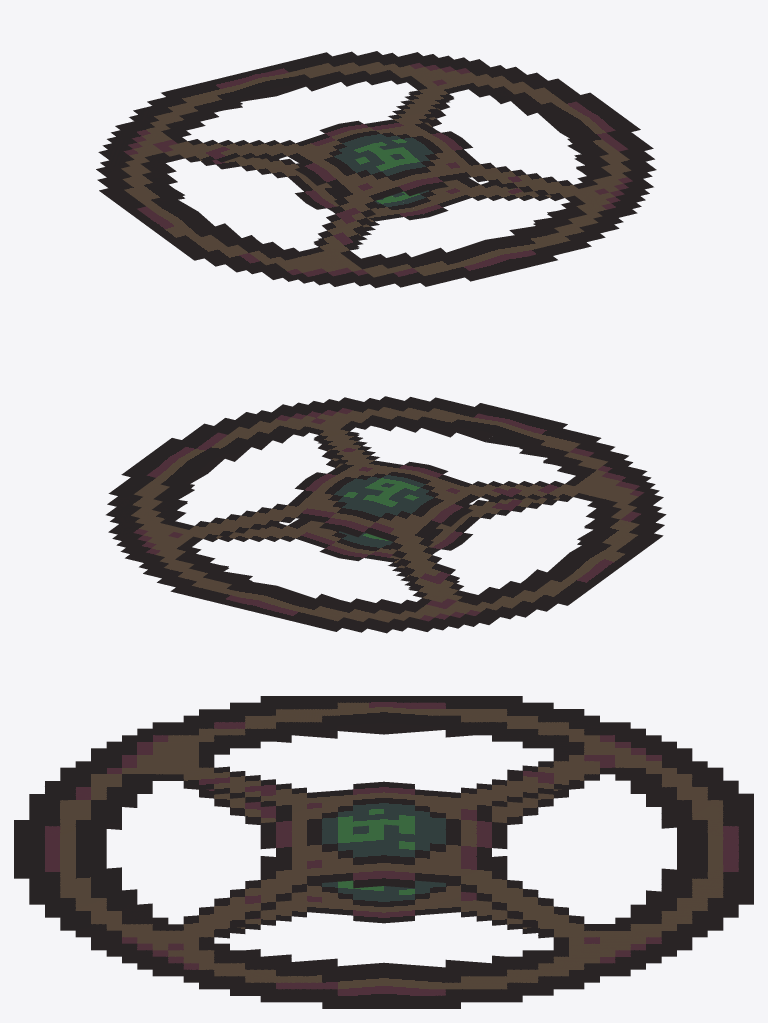
The model's file is Wheel.gltf.
The picture shows the model from 3 angles, top to bottom: view 1: azimuth 30°, elevation 25°; view 2: azimuth 150°, elevation 25°; view 3: azimuth 270°, elevation 25°; orthographic projection. The views are drawn at different scales.
Parts seen in each view (by area): view 1: Wheel; view 2: Wheel; view 3: Wheel.
Part boxes in pixels (bbox=[...]): Wheel: bbox=[96, 51, 656, 288]; Wheel: bbox=[106, 396, 666, 633]; Wheel: bbox=[14, 696, 753, 1008].
Size of the model in its own units: 6 by 0.501 by 6.
1 material, 1 textured.
